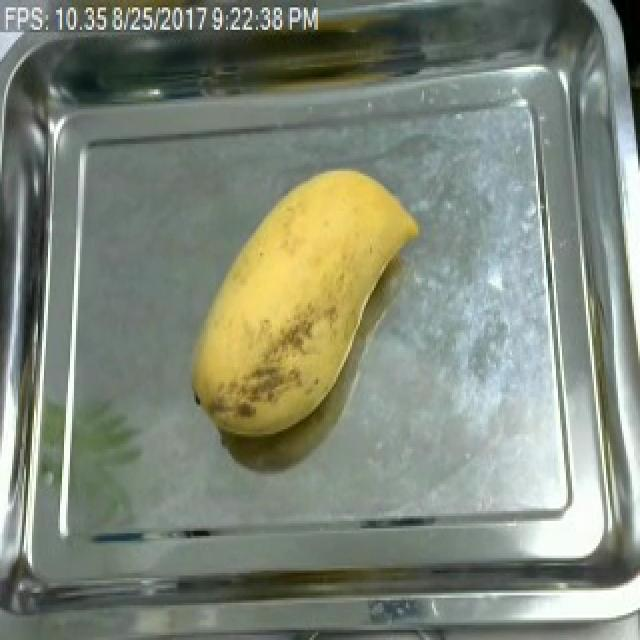fruit: (178, 154, 434, 451)
